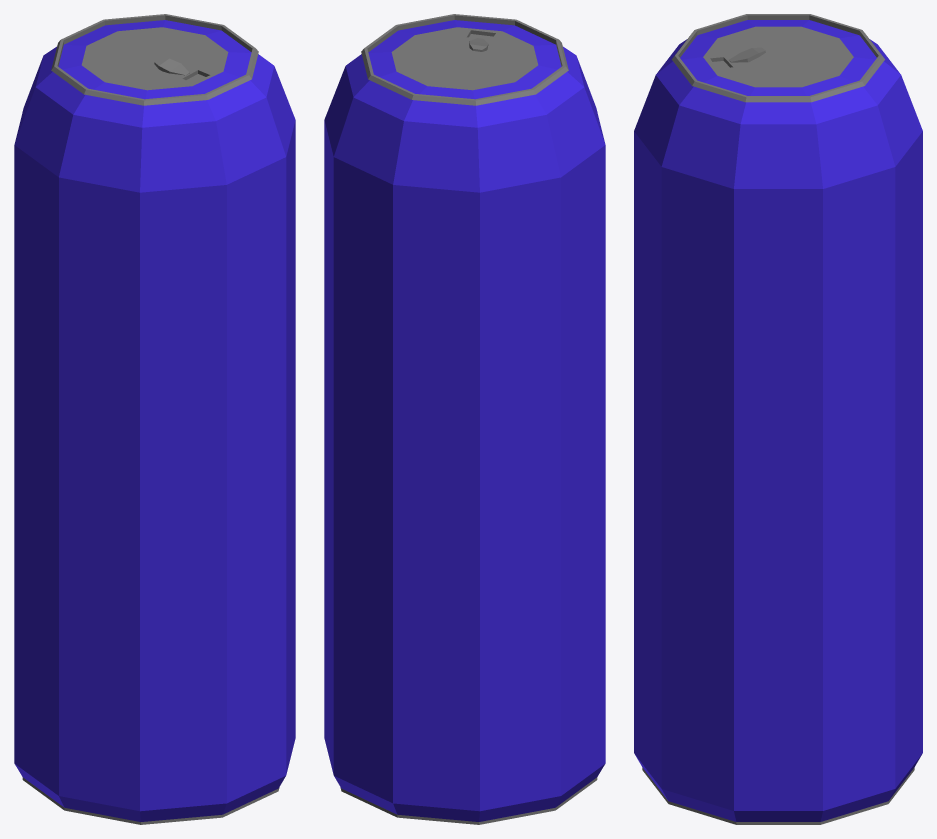
The model's file is LataLarga.glb.
The picture shows the model from 3 angles, left to right: view 1: azimuth 30°, elevation 25°; view 2: azimuth 150°, elevation 25°; view 3: azimuth 270°, elevation 25°; orthographic projection.
Parts seen in each view (by area): view 1: lsts tres; view 2: lsts tres; view 3: lsts tres.
Part boxes in pixels (bbox=[...]): lsts tres: bbox=[14, 14, 295, 824]; lsts tres: bbox=[324, 14, 605, 824]; lsts tres: bbox=[634, 14, 922, 824].
Size of the model in its own units: 0.7445 by 2.15 by 0.7828.
